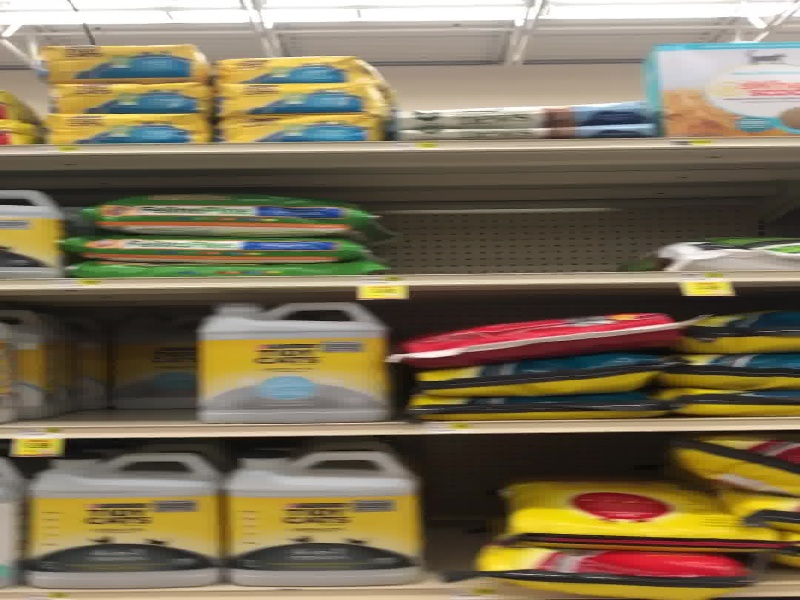void: (384, 145, 667, 279), (48, 297, 198, 424)
